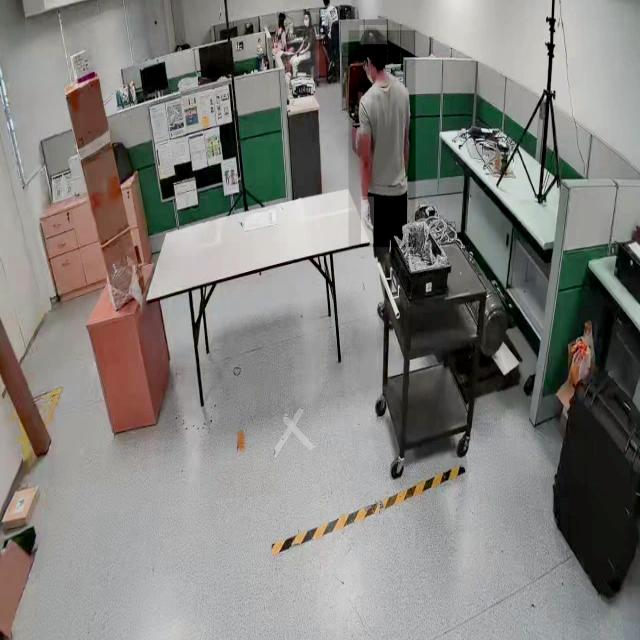hand_glove: (361, 197, 375, 244)
head_nohelmet: (360, 25, 388, 45), (277, 12, 285, 18), (304, 9, 310, 15)
person: (348, 30, 416, 248), (288, 12, 320, 80)
